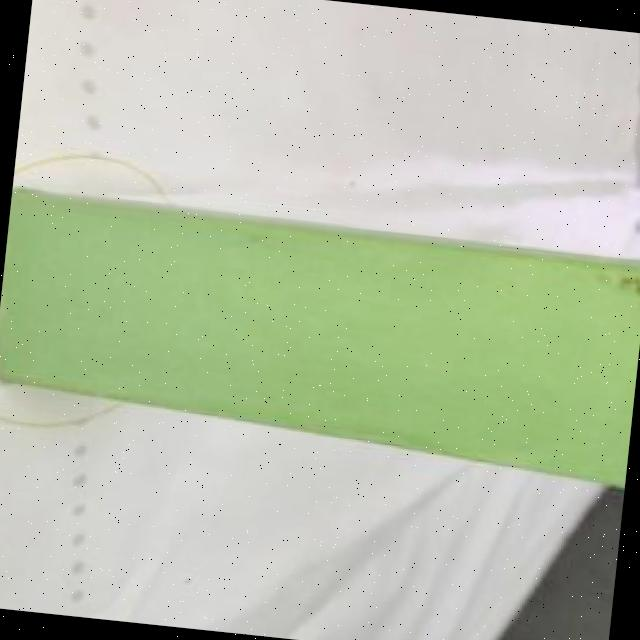greenbox: (0, 188, 640, 489)
